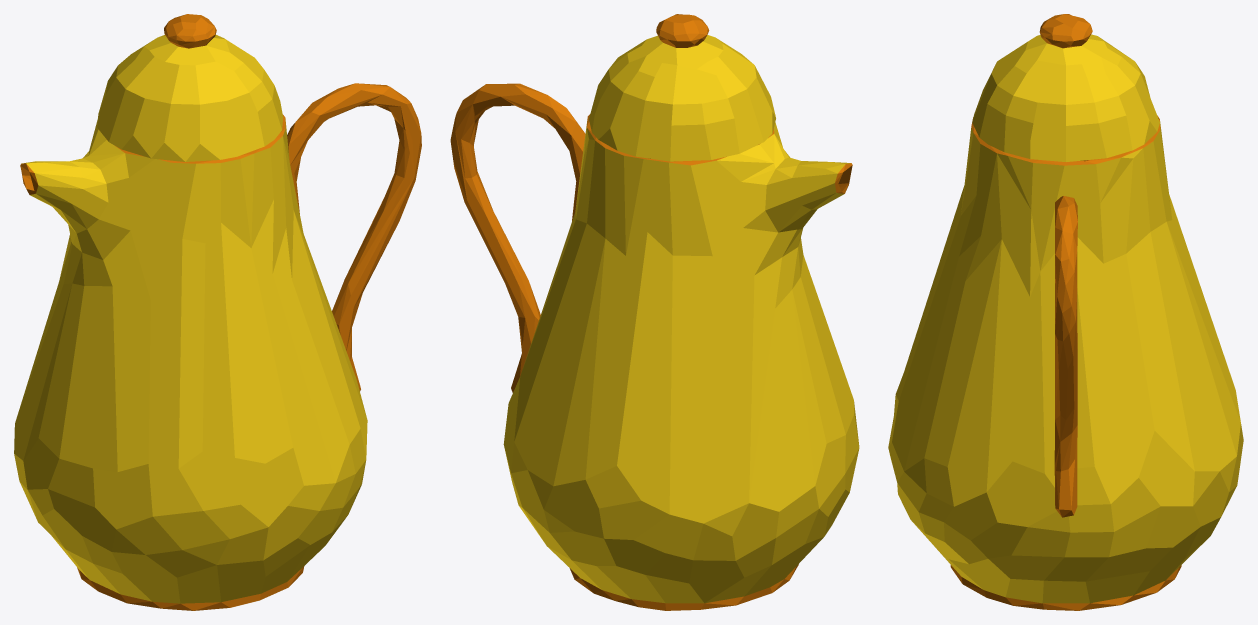
Rendered from Teapot.fbx.
3 views of the same model, side by side, from view 1: azimuth 30°, elevation 25°; view 2: azimuth 150°, elevation 25°; view 3: azimuth 270°, elevation 25° (orthographic).
Visible parts, largest first — view 1: TeapotLowPoly, TeapotLidLowPoly; view 2: TeapotLowPoly, TeapotLidLowPoly; view 3: TeapotLowPoly, TeapotLidLowPoly.
Boxes of the visible parts, bbox=[...] form: TeapotLowPoly: bbox=[14, 83, 421, 610]; TeapotLidLowPoly: bbox=[97, 14, 283, 161]; TeapotLowPoly: bbox=[450, 83, 859, 610]; TeapotLidLowPoly: bbox=[589, 14, 775, 161]; TeapotLowPoly: bbox=[888, 115, 1243, 610]; TeapotLidLowPoly: bbox=[972, 14, 1159, 161].
Size of the model in its own units: 16.78 by 22.07 by 13.07.
